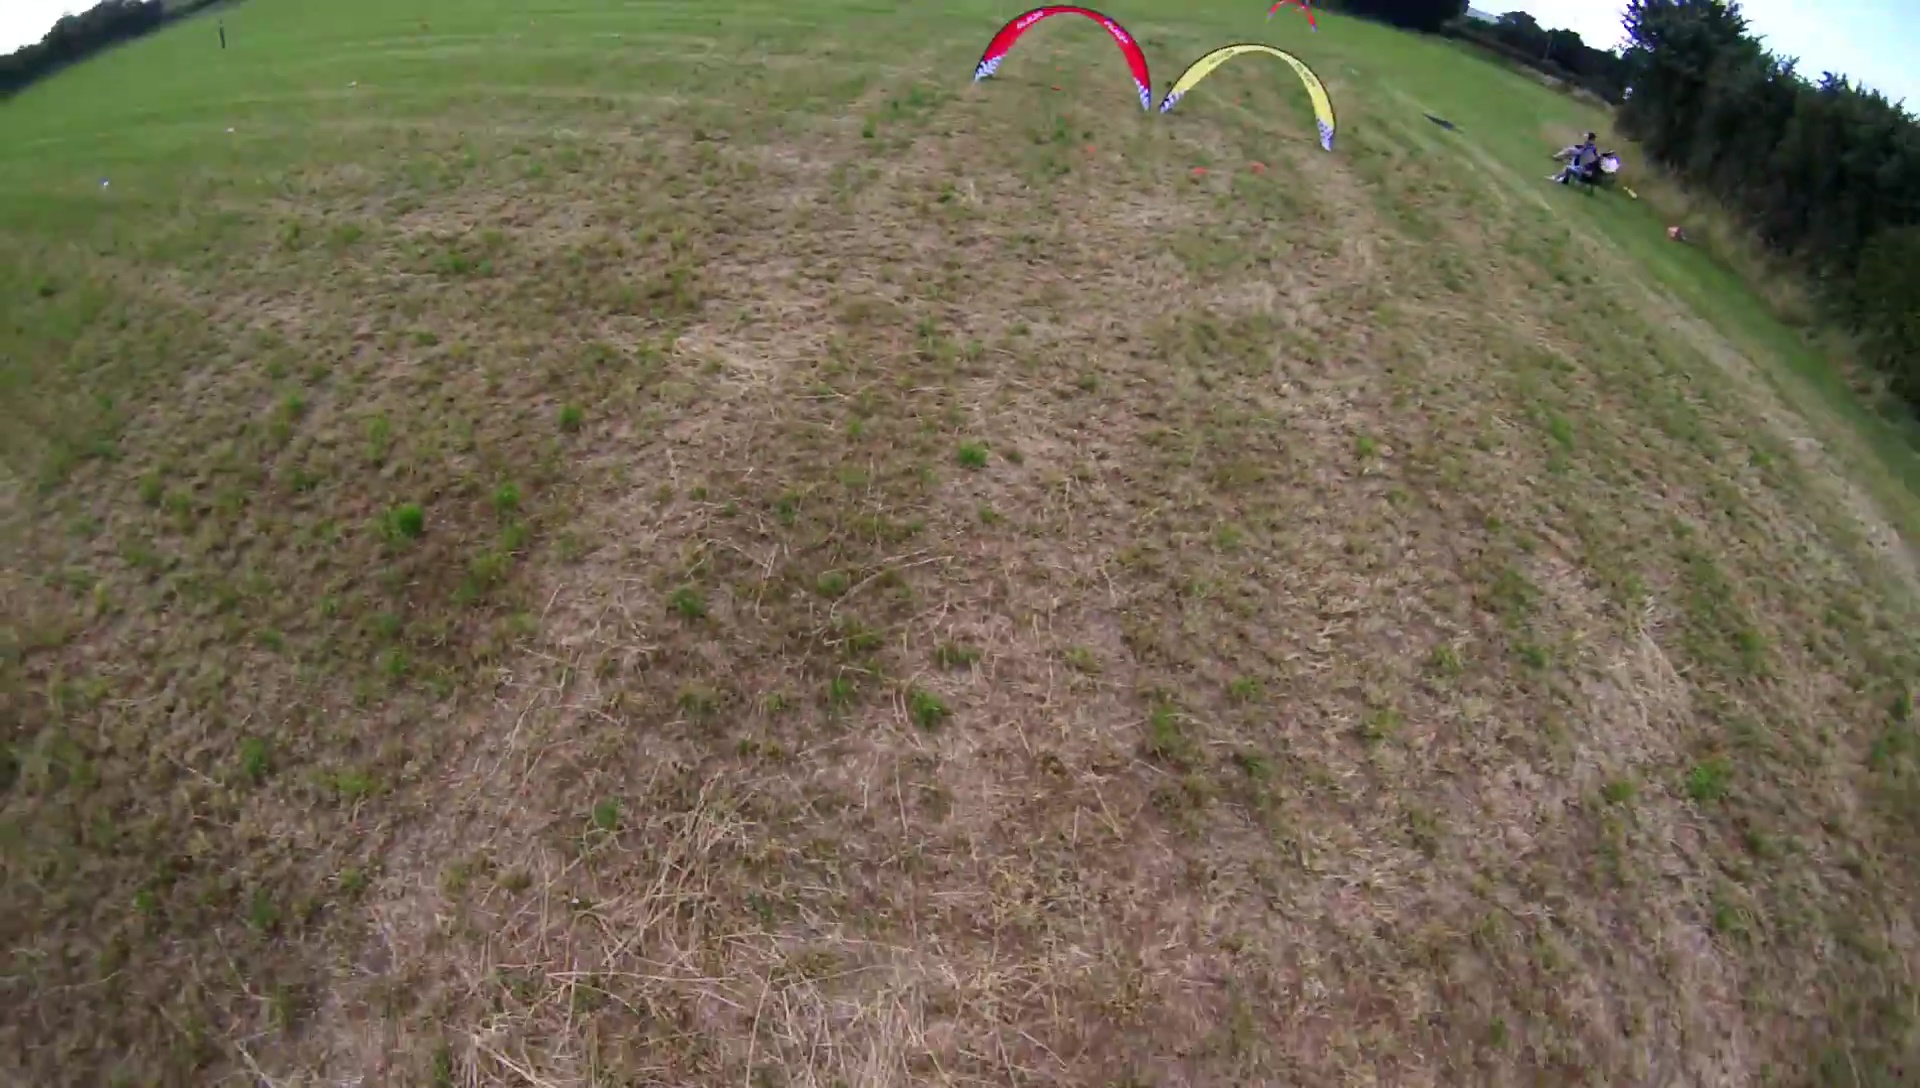gate: (1160, 42, 1338, 154), (971, 5, 1154, 113), (1269, 1, 1323, 36)
